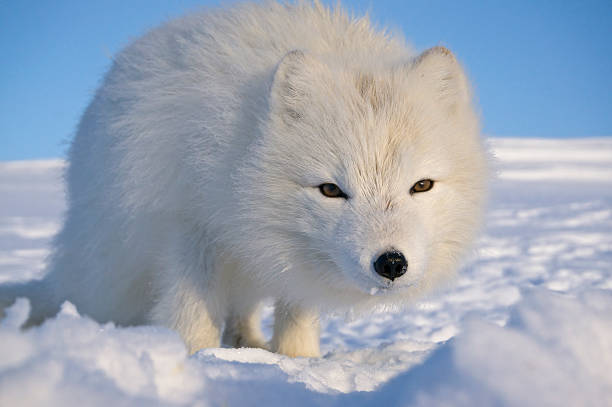arcticfox: (244, 63, 477, 321)
